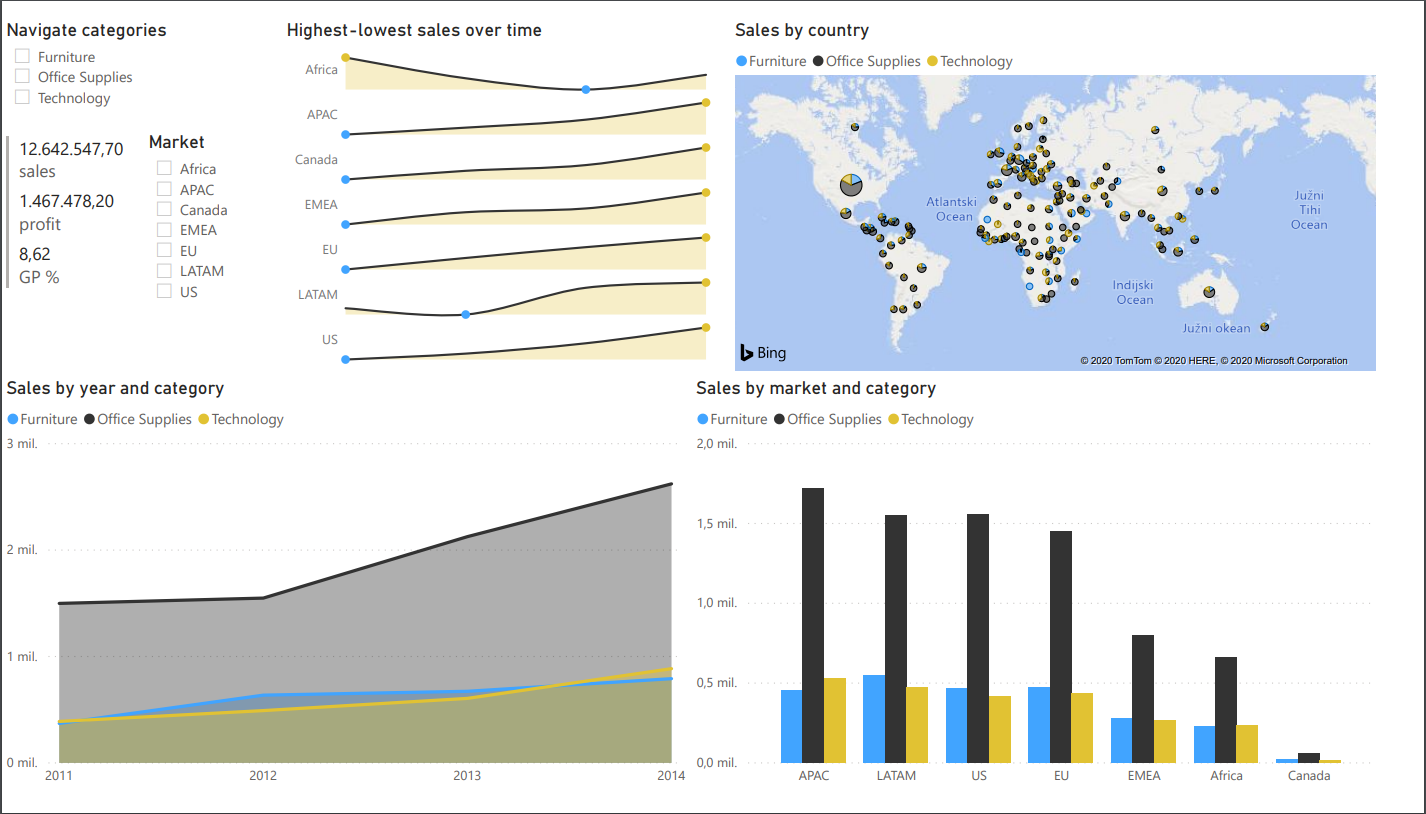

The dashboard page shown, as its layout file describes it:
{"tool":"powerbi","page":{"name":"Products sold by category and market","canvas":[1280,720],"ordinal":3},"visuals":[{"type":"areaChart","title":"Sales by year and category","fields":{"Y":["Sum(superstore dim_order.sales)"],"Category":["superstore dim_date.year"],"Series":["superstore dim_product.product_category"]},"box":[0,331.7,640,388.1],"z":0},{"type":"slicer","title":"Navigate categories","fields":{"Values":["superstore dim_product.product_category"]},"box":[0,0,241.2,104.1],"z":1000},{"type":"multiRowCard","fields":{"Values":["Sum(superstore dim_order.sales)","Sum(superstore dim_order.profit)","superstore dim_order.GP %"]},"box":[0,104,131.6,155.6],"z":2000},{"type":"clusteredColumnChart","title":"Sales by market and category","fields":{"Category":["superstore dim_location.market_name"],"Y":["Sum(superstore dim_order.sales)"],"Series":["superstore dim_product.product_category"]},"box":[640,331.7,640,388.1],"z":3000},{"type":"map","title":"Sales by country","fields":{"Category":["superstore dim_location.country_name"],"Size":["Sum(superstore dim_order.sales)"],"Series":["superstore dim_product.product_category"]},"box":[676.4,0,603.6,331.6],"z":4000},{"type":"slicer","title":"Market","fields":{"Values":["superstore dim_location.market_name"]},"box":[131.6,104,128.9,166.2],"z":5000},{"type":"PBI_CV_25997FEB_F466_44FA_B562_AC4063283C4C","title":"Highest-lowest sales over time","fields":{"measure":["Sum(superstore dim_order.sales)"],"axis":["superstore dim_date.year"],"category":["superstore dim_location.market_name"]},"box":[260.4,0,416,331.6],"z":6000}]}

Visuals, with their boxes in screenshot pixels (x1, y1, x2, y2), scaled from the page's 1280x720 canvas onto the 1426x814 screenshot:
"Sales by year and category" areaChart: 0/375/713/813
"Navigate categories" slicer: 0/0/269/118
multiRowCard - Sum(superstore dim_order.sales) x Sum(superstore dim_order.profit): 0/118/147/293
"Sales by market and category" clusteredColumnChart: 713/375/1425/813
"Sales by country" map: 754/0/1425/375
"Market" slicer: 147/118/290/305
"Highest-lowest sales over time" PBI_CV_25997FEB_F466_44FA_B562_AC4063283C4C: 290/0/754/375
